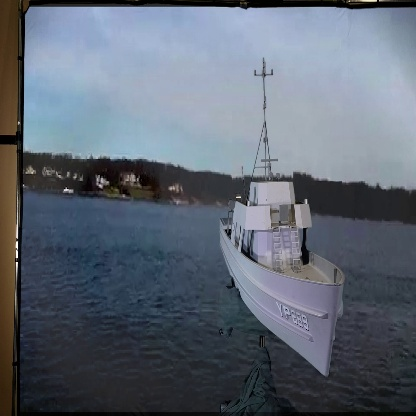YP689: (218, 61, 345, 379)
